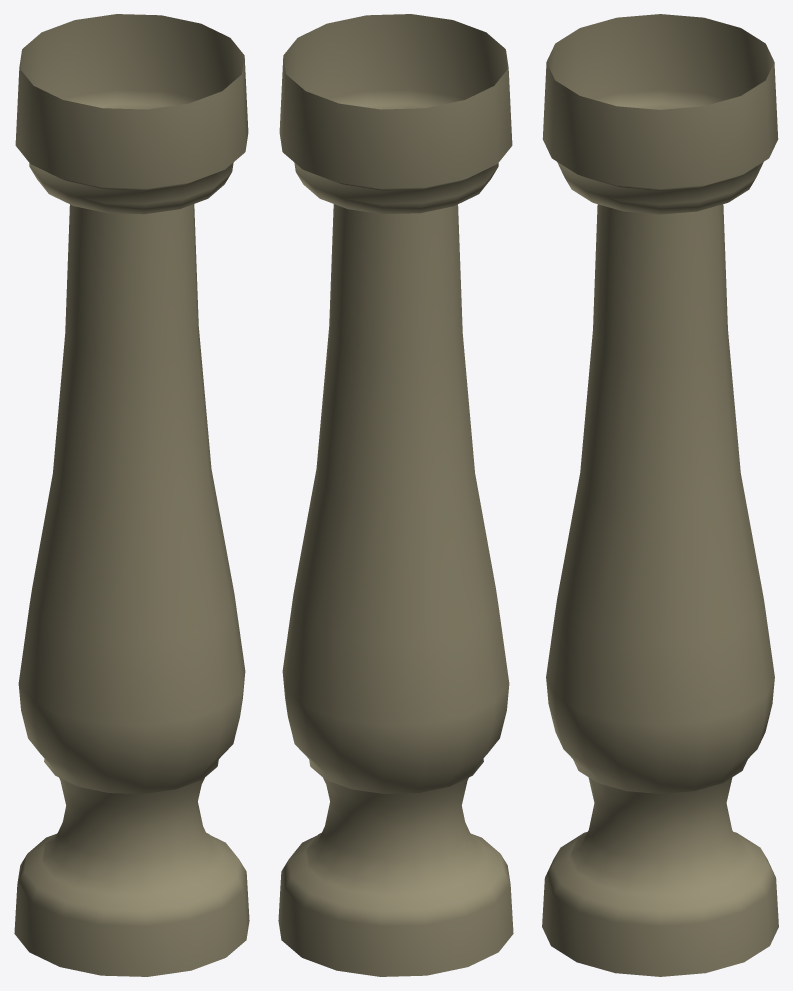
File: Pillar 3.fbx
3 renders of one model, left to right at view 1: azimuth 30°, elevation 25°; view 2: azimuth 150°, elevation 25°; view 3: azimuth 270°, elevation 25°, orthographic.
Visible parts, largest first — view 1: pCylinder4; view 2: pCylinder4; view 3: pCylinder4.
Part boxes in pixels (x1,y1,x2,y2): pCylinder4: [14, 14, 249, 976]; pCylinder4: [278, 14, 513, 976]; pCylinder4: [542, 14, 778, 976].
Size of the model in its own units: 37.58 by 151 by 37.58.
